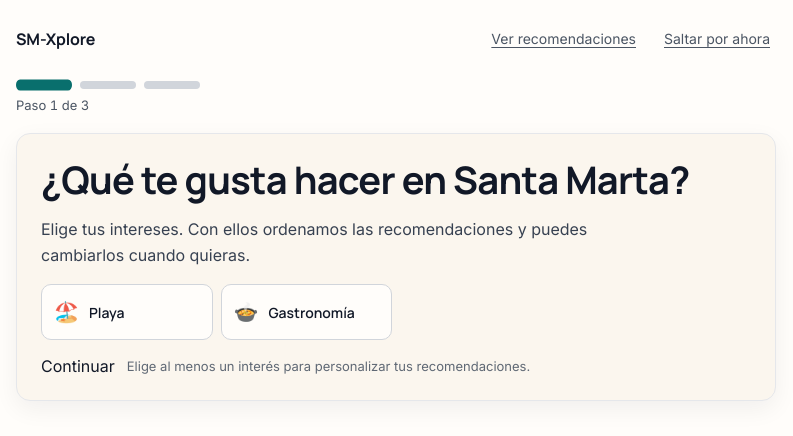
Test: OnboardingPage › mientras guarda, otra capsula no dispara otra escritura y lo anuncia
The image size is (793, 436).
Later steps or results of the test are not shown.
Click the button "🏖️ Playa" at x=127, y=312, box x1=41 y1=284 x2=212 y2=340
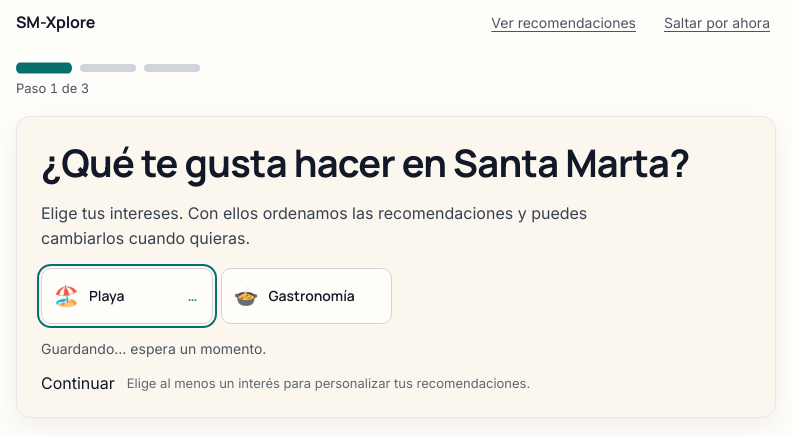
Check: the button "🏖️ Playa …" is disabled, box x1=41 y1=268 x2=212 y2=324
Check: the button "🍲 Gastronomía" is disabled
Click the button "🍲 Gastronomía" at x=306, y=296, box x1=220 y1=268 x2=392 y2=324
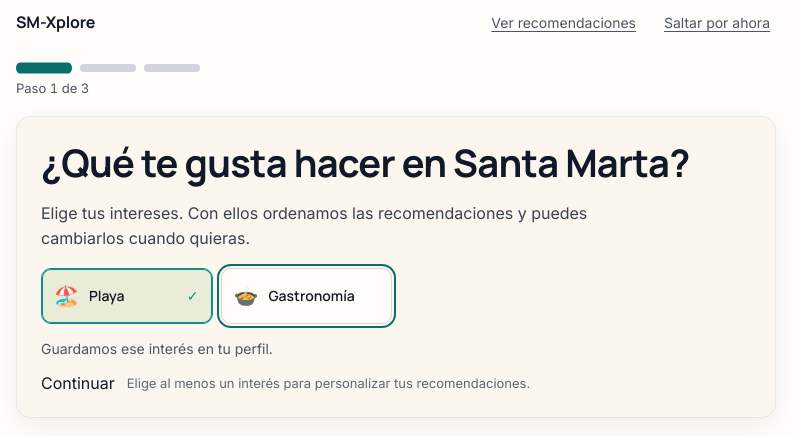
Check: the button "🏖️ Playa ✓" is pressed, box x1=41 y1=268 x2=212 y2=324
